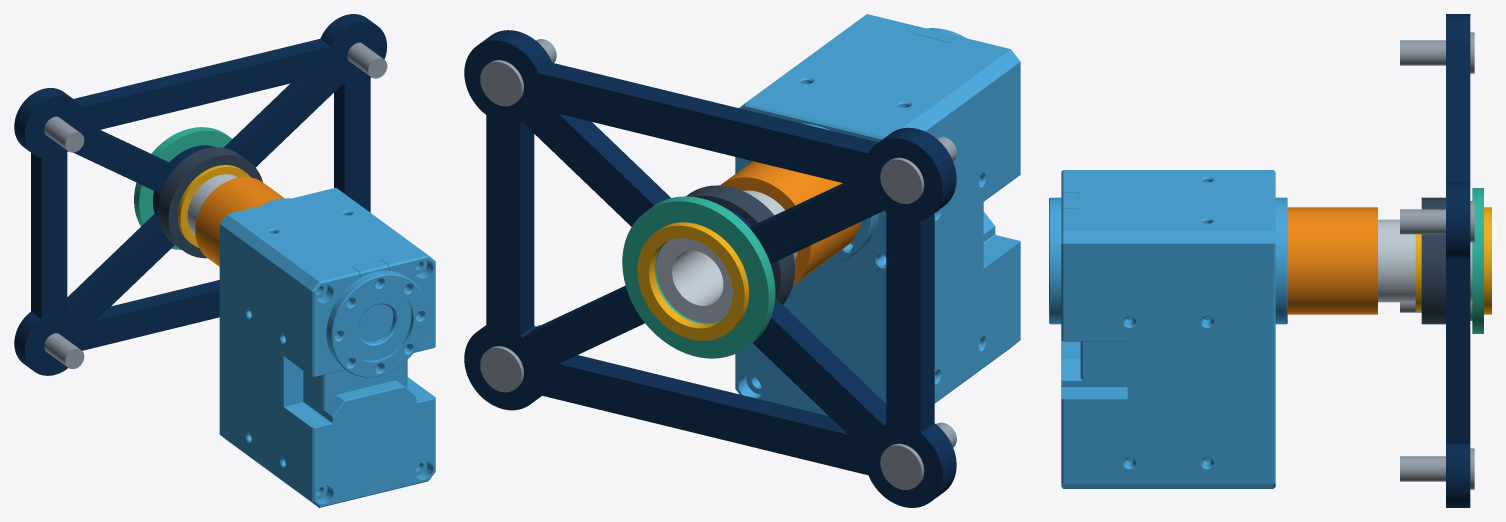
The model's file is JMF-05-WAIST_assembly.glb.
3 views of the same model, side by side, from view 1: azimuth 30°, elevation 25°; view 2: azimuth 150°, elevation 25°; view 3: azimuth 270°, elevation 25° (orthographic). The views are drawn at different scales.
Visible parts, largest first — view 1: ACTUATOR, CARRIER_B, BEARING_B, OUTPUT_COUPLER, OUTPUT_ENCODER_CARRIER, RETAINER_B, CARRIER_B_SCREW_12, CARRIER_B_SCREW_22, CARRIER_B_SCREW_21, OUTPUT_SHAFT; view 2: CARRIER_B, ACTUATOR, OUTPUT_ENCODER_CARRIER, OUTPUT_SHAFT, OUTPUT_MAGNET_HUB, OUTPUT_COUPLER, BEARING_B, CARRIER_B_SCREW_22, CARRIER_B_SCREW_21, CARRIER_B_SCREW_12, CARRIER_B_SCREW_11; view 3: ACTUATOR, CARRIER_B, OUTPUT_COUPLER, OUTPUT_SHAFT, BEARING_B, OUTPUT_ENCODER_CARRIER, CARRIER_B_SCREW_11, CARRIER_B_SCREW_12, CARRIER_B_SCREW_22, OUTPUT_MAGNET_HUB, RETAINER_B.
Boxes of the visible parts, x1,y1,x2,y2 form: ACTUATOR: (219,187,435,507); CARRIER_B: (14,14,386,375); BEARING_B: (158,147,262,258); OUTPUT_COUPLER: (195,177,284,266); OUTPUT_ENCODER_CARRIER: (134,127,231,249); RETAINER_B: (178,165,250,247); CARRIER_B_SCREW_12: (347,42,387,78); CARRIER_B_SCREW_22: (44,116,84,152); CARRIER_B_SCREW_21: (44,333,84,369); OUTPUT_SHAFT: (187,174,237,235); CARRIER_B: (464,30,956,507); ACTUATOR: (735,14,1020,415); OUTPUT_ENCODER_CARRIER: (622,196,775,358); OUTPUT_SHAFT: (656,190,797,322); OUTPUT_MAGNET_HUB: (637,222,749,340); OUTPUT_COUPLER: (720,161,861,284); BEARING_B: (686,185,794,304); CARRIER_B_SCREW_22: (880,136,956,203); CARRIER_B_SCREW_21: (880,422,956,489); CARRIER_B_SCREW_12: (480,39,556,106); CARRIER_B_SCREW_11: (480,325,540,392); ACTUATOR: (1049,170,1287,488); CARRIER_B: (1446,14,1470,507); OUTPUT_COUPLER: (1287,207,1377,314); OUTPUT_SHAFT: (1378,219,1472,302); BEARING_B: (1421,197,1445,324); OUTPUT_ENCODER_CARRIER: (1472,188,1483,333); CARRIER_B_SCREW_11: (1400,448,1474,489); CARRIER_B_SCREW_12: (1400,201,1474,242); CARRIER_B_SCREW_22: (1400,32,1474,73); OUTPUT_MAGNET_HUB: (1484,207,1491,314); RETAINER_B: (1415,234,1421,311).
Size of the model in its own units: 97.98 by 80.74 by 90.9.
